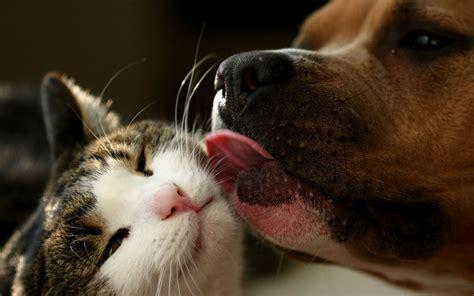cat: (1, 73, 240, 296)
dog: (208, 1, 474, 296)
